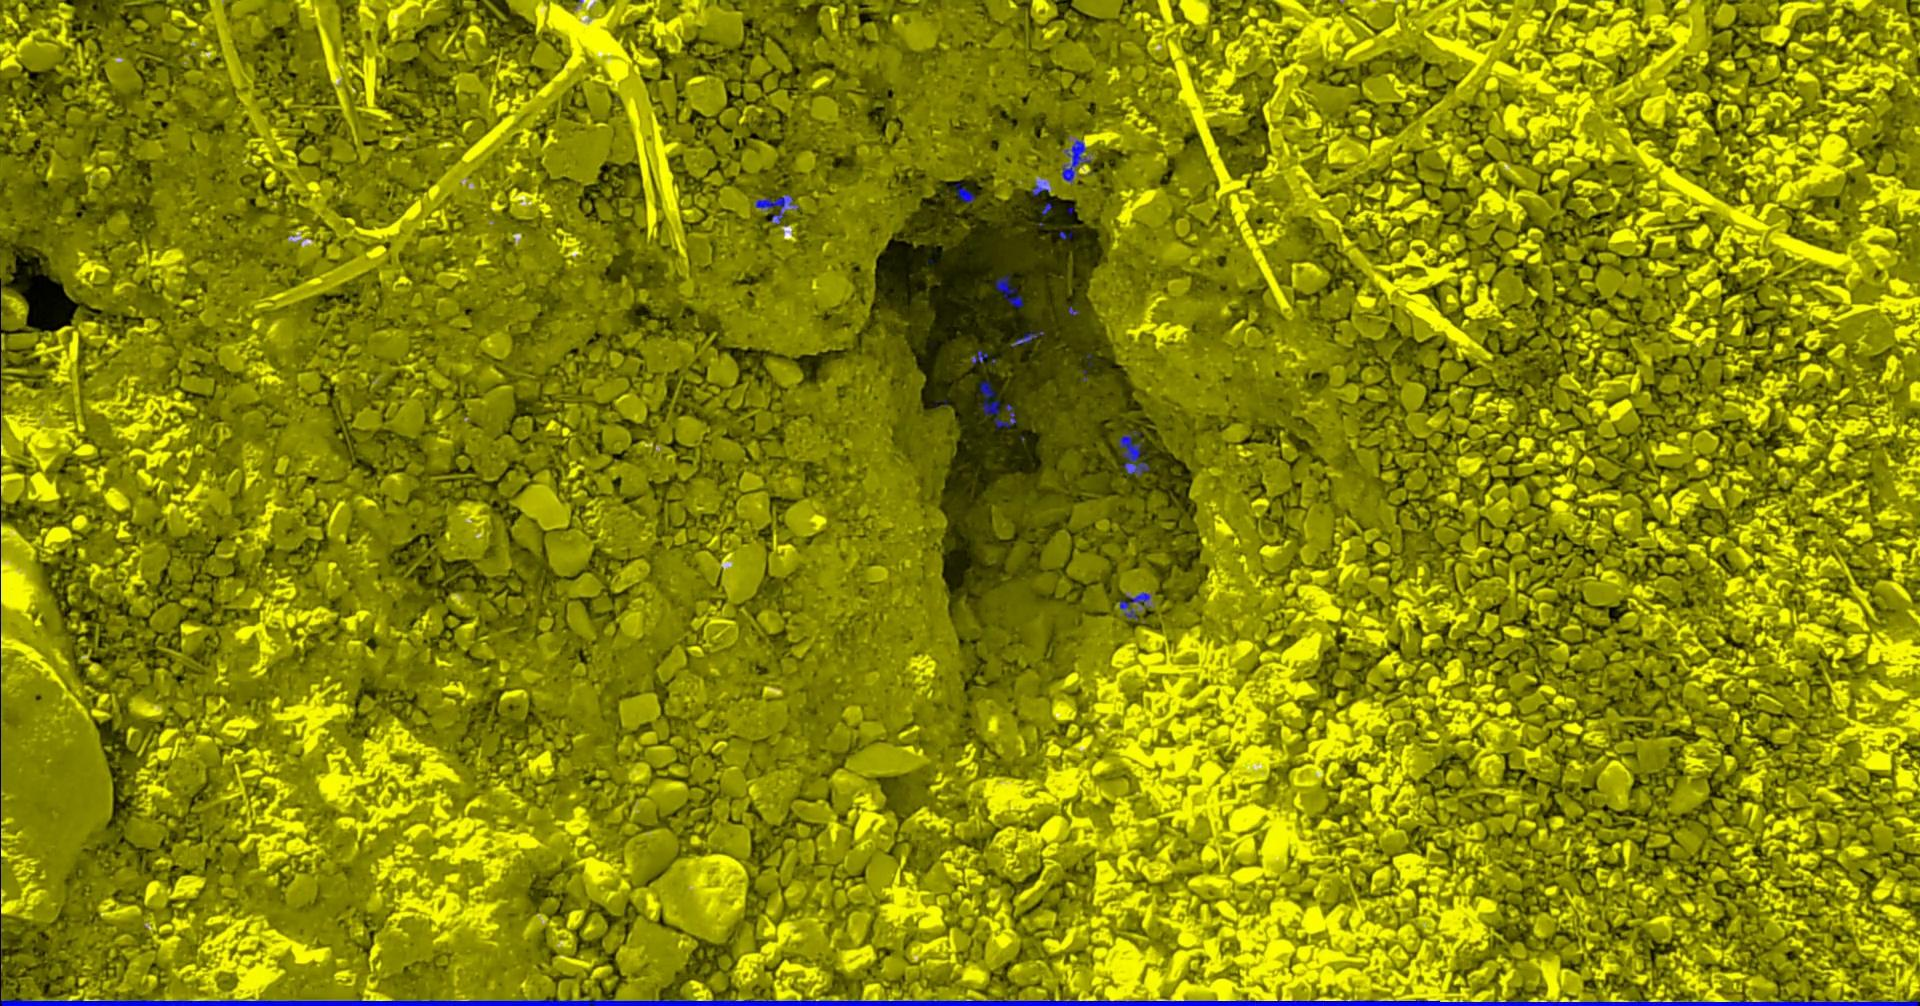ant: (979, 381, 1015, 428), (1117, 429, 1148, 476), (1062, 138, 1090, 182), (754, 194, 794, 224), (994, 273, 1023, 307), (1119, 591, 1150, 619), (1010, 330, 1043, 345), (951, 182, 975, 202), (970, 349, 987, 363)
